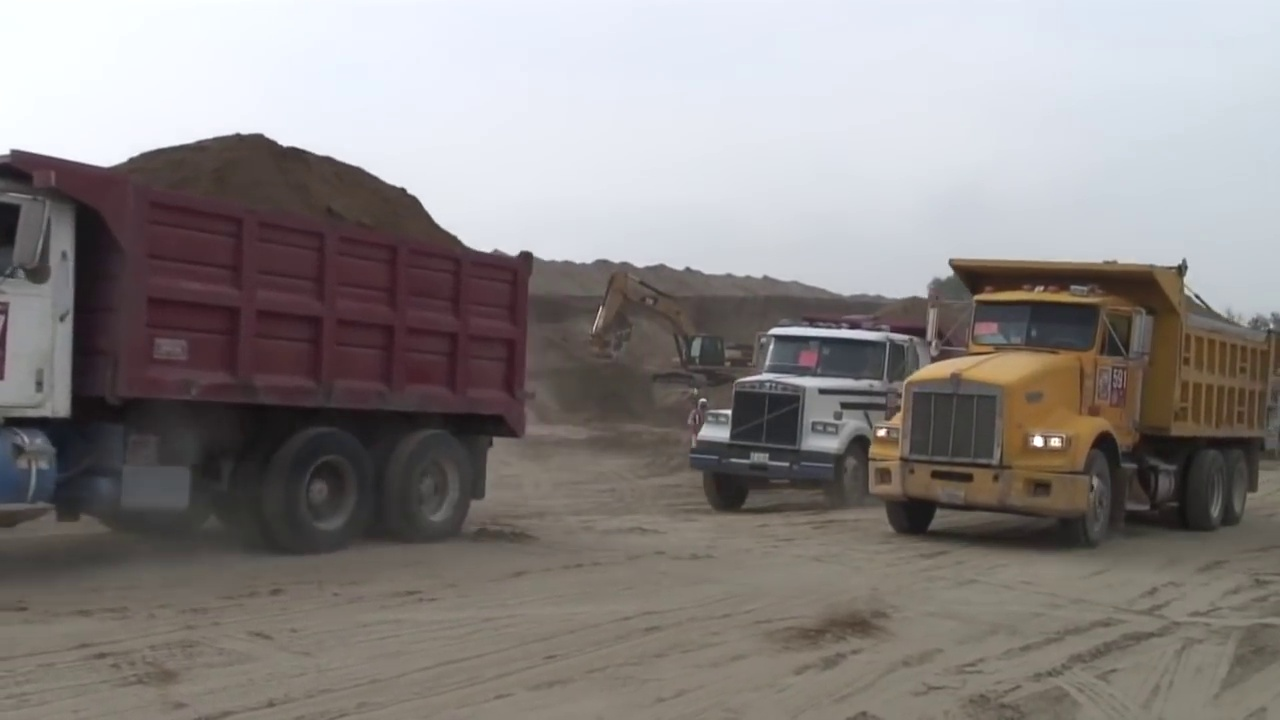excavator: (589, 267, 755, 380)
truck: (1, 151, 534, 549), (868, 255, 1275, 543), (693, 315, 970, 506)
